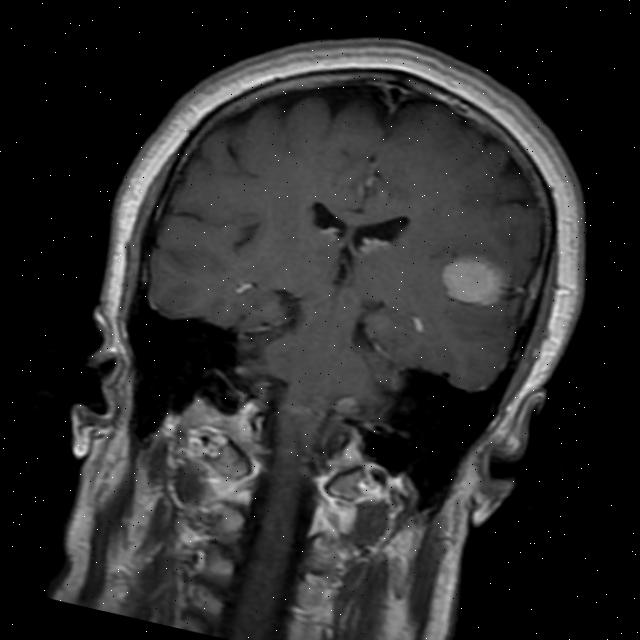Meningioma: (431, 245, 517, 314)
